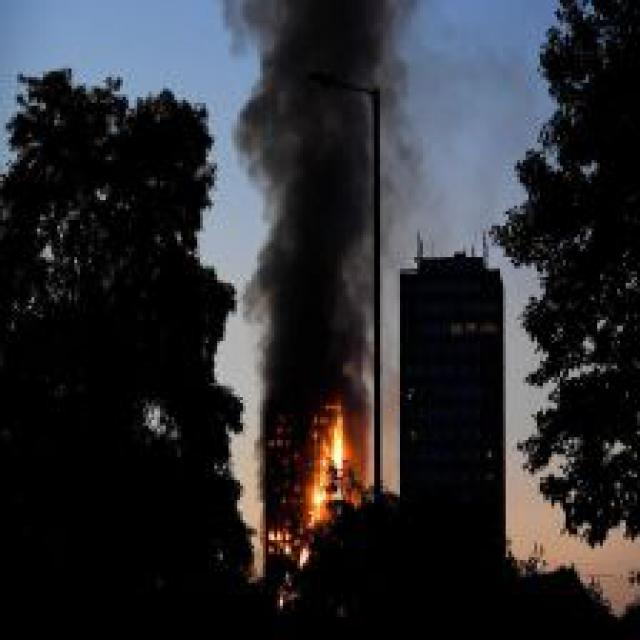fire: (288, 380, 363, 540)
